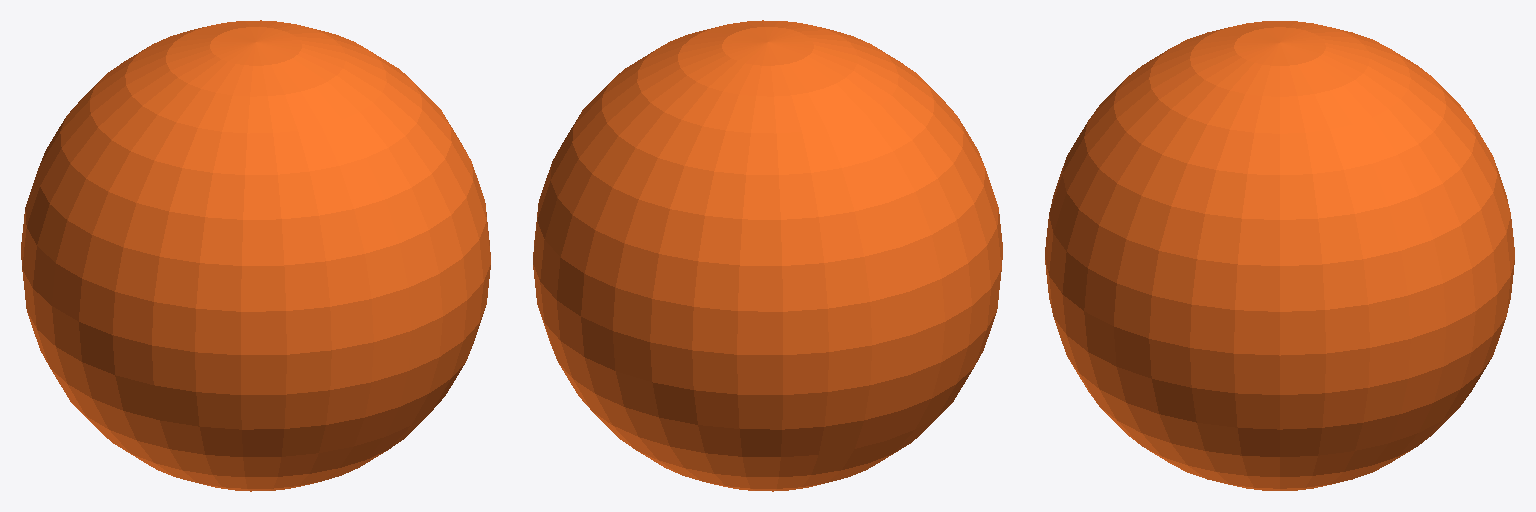
robot.urdf — index:
<?xml version="1.0"?>
<robot name="index">

	<material name="orange">
		<color rgba="1 0.5 0 1"/>
	</material>
	<material name="gold">
		<color rgba="1 0.7 0 1"/>
	</material>
	<material name="coral">
		<color rgba="1 0.5 0.2 1"/>
	</material>

	<link name="base_link">
		<visual>
			<geometry>
				<sphere radius="0.10"/>
			</geometry>
			<material name="coral"/>
		</visual>
	</link>
</robot>

--- Render facts (derived) ---
The picture shows the robot from 3 angles, left to right: view 1: azimuth 30°, elevation 25°; view 2: azimuth 150°, elevation 25°; view 3: azimuth 270°, elevation 25°; orthographic projection.
Model index with 1 links and 0 joints (none), rooted at base_link, posed every joint at zero.
Links seen in each view (by area): view 1: base_link; view 2: base_link; view 3: base_link.
Link boxes in pixels (box(x1,y1,x2,y2)): base_link: box(21, 20, 490, 491); base_link: box(533, 20, 1002, 491); base_link: box(1045, 21, 1514, 490).
Bounding box of the posed robot: 0.2 × 0.2 × 0.2 m (x, y, z).
Geometry: primitives only (box / cylinder / sphere), no mesh files.